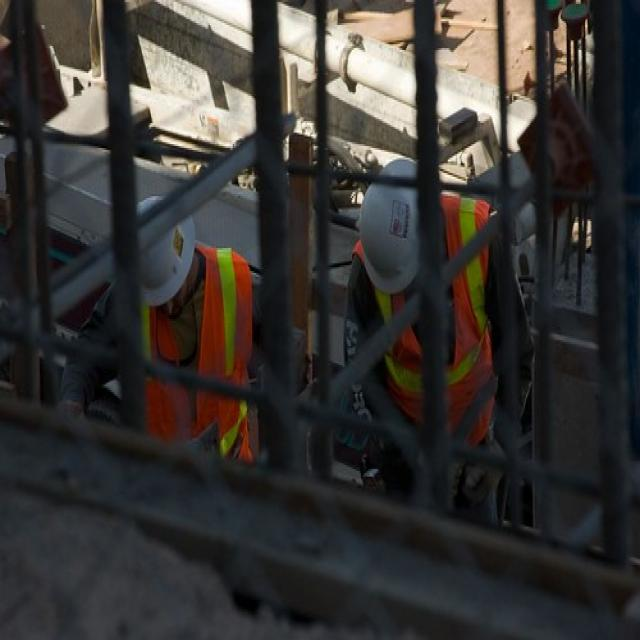Reflective-Jacket: (342, 194, 524, 465), (125, 240, 274, 488)
Safety-Helmet: (346, 148, 435, 300), (130, 204, 208, 315)
